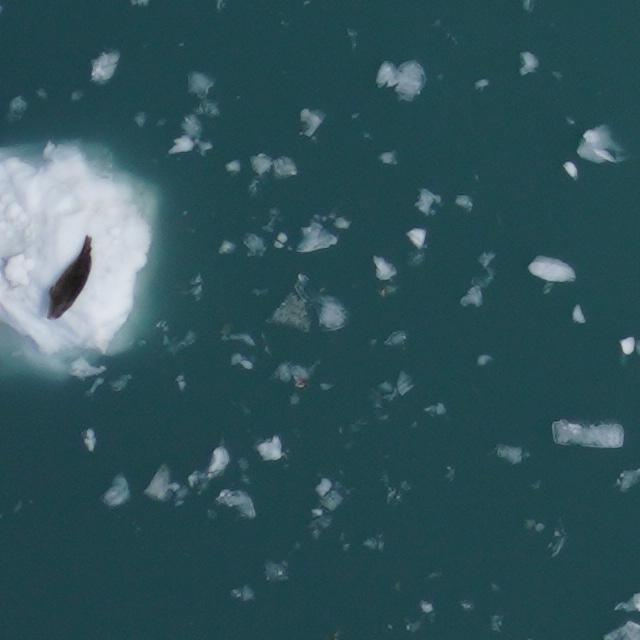seal: (47, 235, 91, 319)
